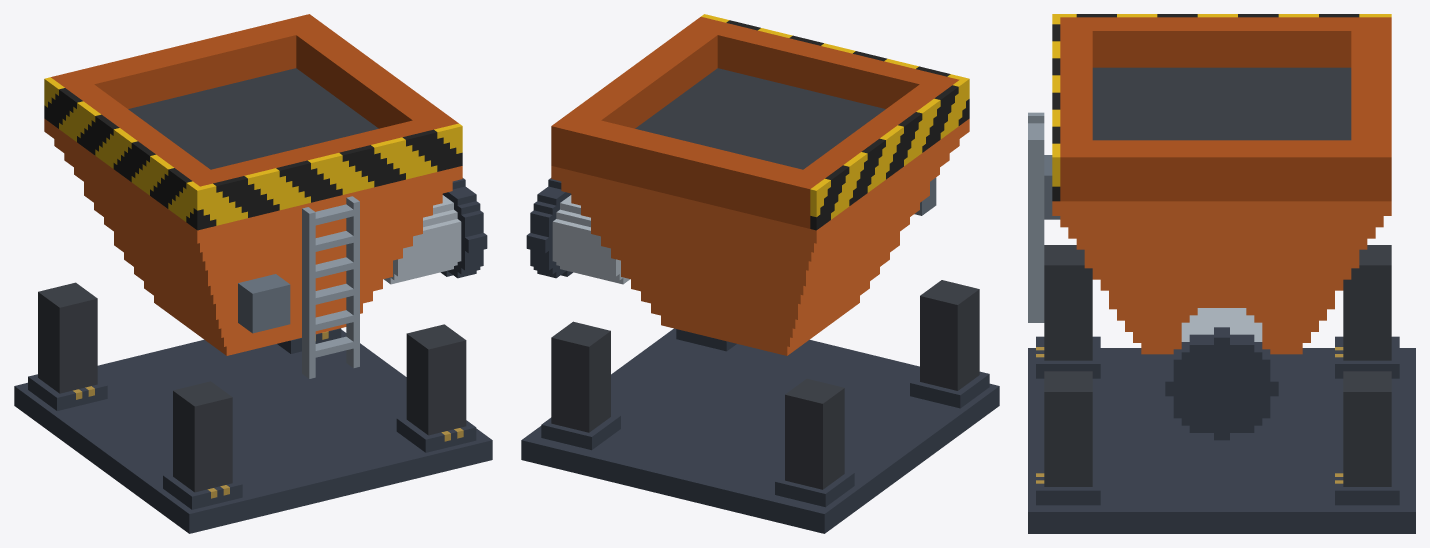
Rendered from conveyor_hopper.obj.
3 views of the same model, side by side, from view 1: azimuth 30°, elevation 25°; view 2: azimuth 150°, elevation 25°; view 3: azimuth 270°, elevation 25° (orthographic). The views are drawn at different scales.
Visible parts, largest first — view 1: conveyor_hopper; view 2: conveyor_hopper; view 3: conveyor_hopper.
Boxes of the visible parts, x1=… form: conveyor_hopper: x1=14, y1=14, x2=492, y2=533; conveyor_hopper: x1=521, y1=14, x2=999, y2=533; conveyor_hopper: x1=1028, y1=14, x2=1415, y2=533.
Size of the model in its own units: 1.78 by 1.56 by 1.5.
